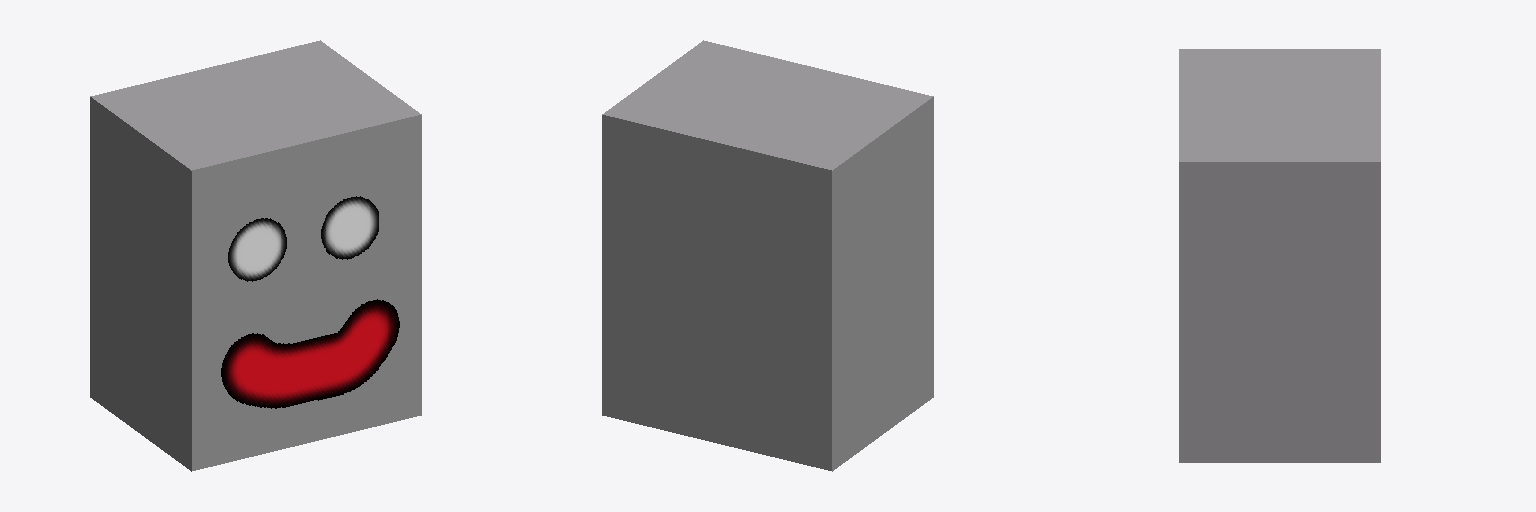
3 views of the same model, side by side, from view 1: azimuth 30°, elevation 25°; view 2: azimuth 150°, elevation 25°; view 3: azimuth 270°, elevation 25° (orthographic).
Visible parts, largest first — view 1: Cube; view 2: Cube; view 3: Cube.
Boxes of the visible parts, box(x1,y1,x2,y2) form: Cube: box(90, 40, 421, 471); Cube: box(602, 40, 933, 471); Cube: box(1179, 49, 1380, 462).
Size of the model in its own units: 1.6 by 2 by 1.22.
1 materials, 1 textured.